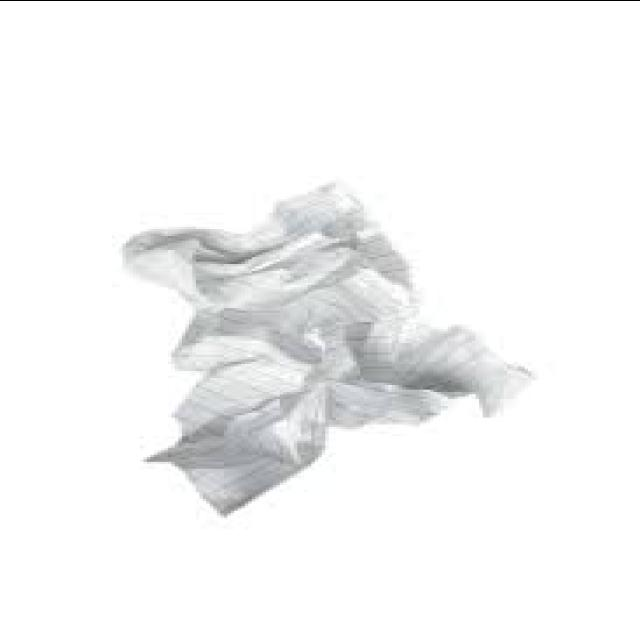crampled paper: (122, 186, 525, 514)
